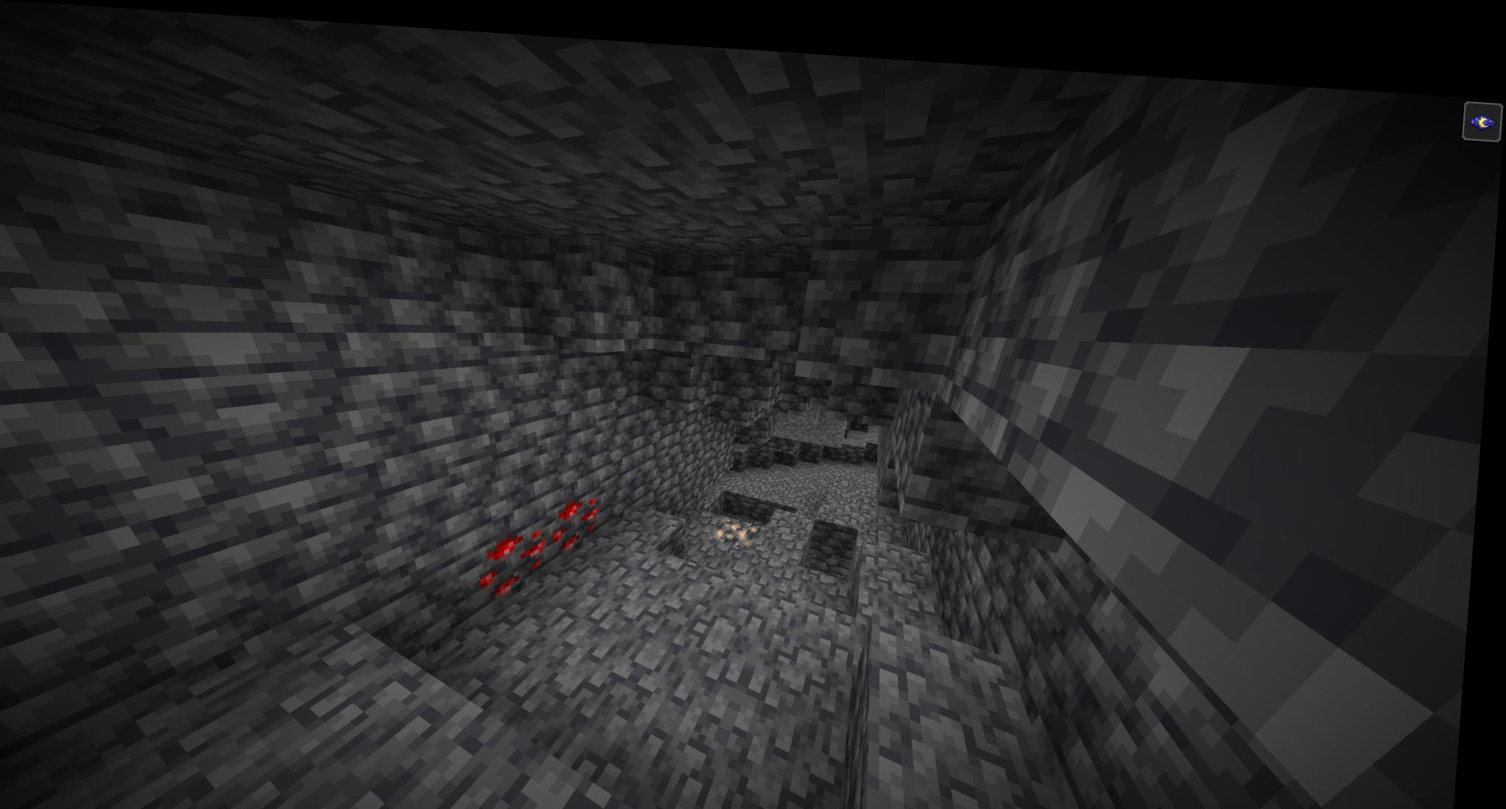iron ore: (718, 502, 768, 542)
redstone ore: (476, 511, 561, 587), (546, 478, 611, 546)
